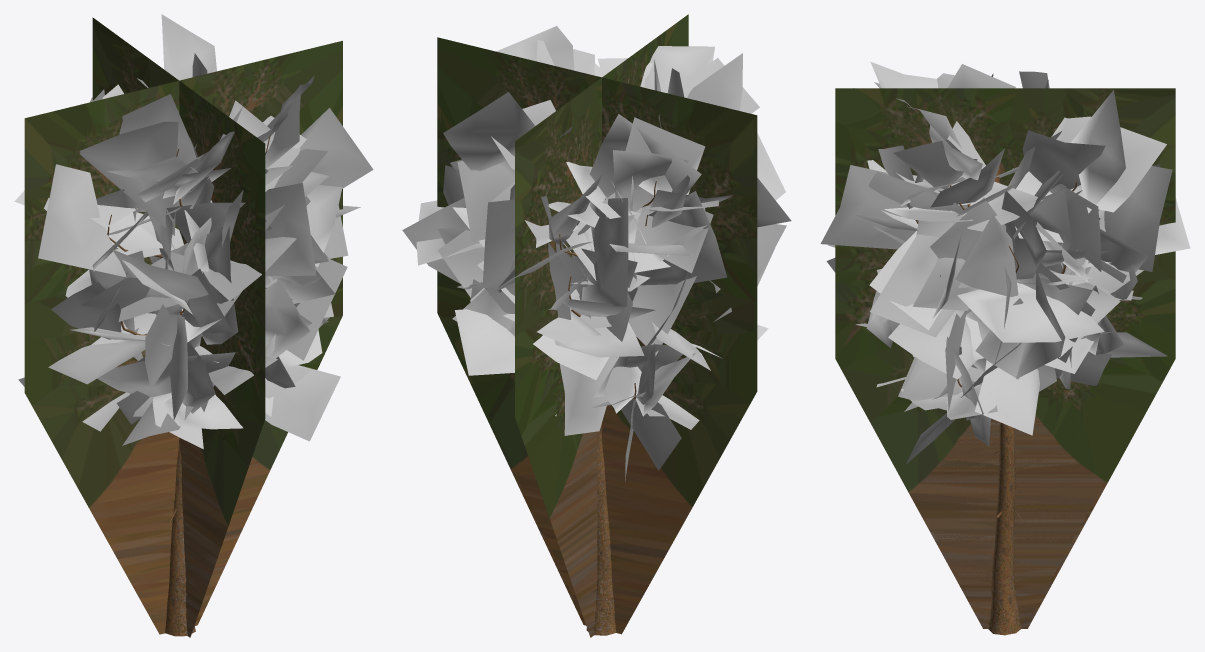
The model's file is Pine2.fbx.
The picture shows the model from 3 angles, left to right: view 1: azimuth 30°, elevation 25°; view 2: azimuth 150°, elevation 25°; view 3: azimuth 270°, elevation 25°; orthographic projection. The views are drawn at different scales.
Parts seen in each view (by area): view 1: LOD0, Billboard; view 2: Billboard, LOD0; view 3: LOD0, Billboard.
Part boxes in pixels (x1,y1,x2,y2): LOD0: (14, 14, 373, 636); Billboard: (24, 17, 342, 637); Billboard: (437, 14, 757, 637); LOD0: (402, 26, 791, 635); LOD0: (820, 61, 1190, 635); Billboard: (835, 88, 1175, 628).
Size of what is drawn, in the model's own units: 705 by 1102 by 663.
